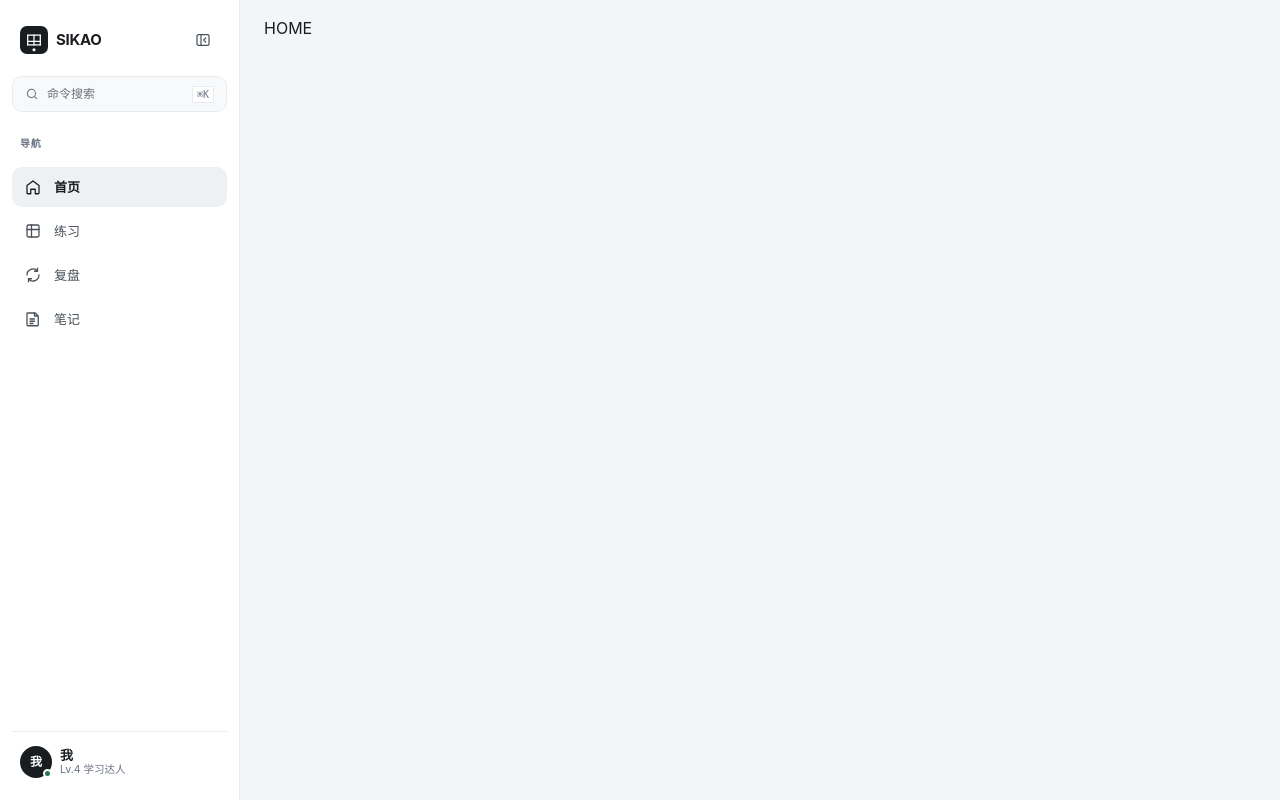
Test: RootLayout (V5 §D.4 SaaS shell) › closes the RailMe popover on route changes outside the account menu click path
The width and height of the screenshot is (1280, 800).
Step 1. Click the button with test id "rail-me-trigger" → (120, 762), box [12, 740, 227, 784]
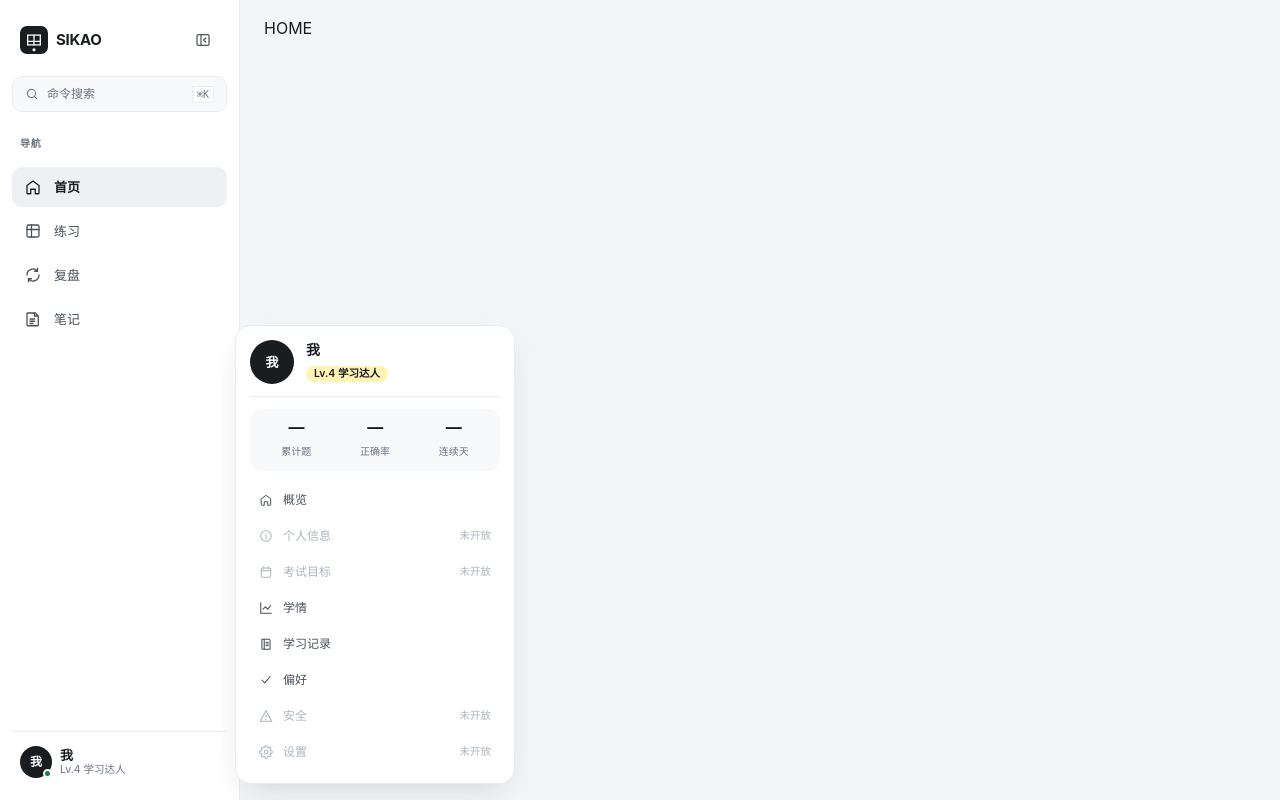
Check: the element with test id "rail-me-menu" is shown, box [250, 340, 500, 769]
Step 2. Click the link "练习" → (52, 231), box [24, 222, 80, 240]
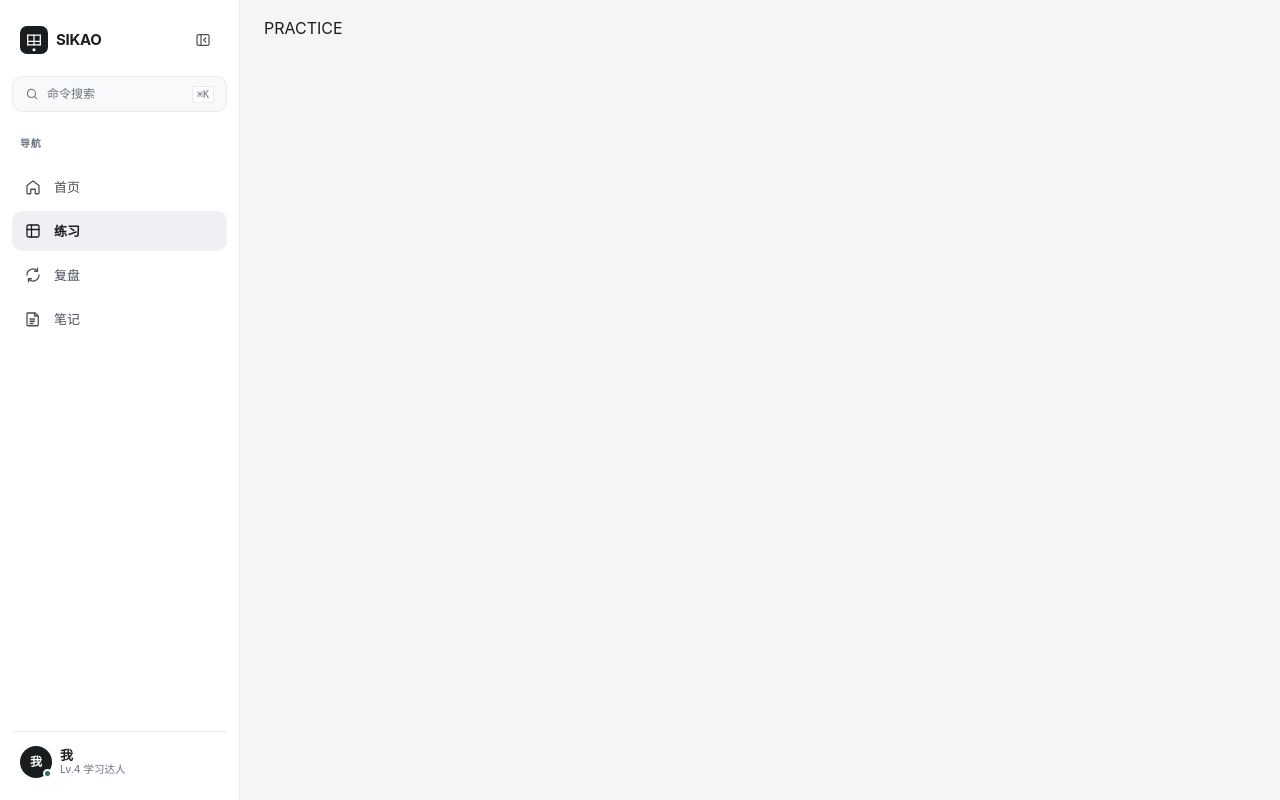
Check: the text "PRACTICE" is shown, box [264, 18, 343, 38]
Check: the element with test id "rail-me-menu" is gone
